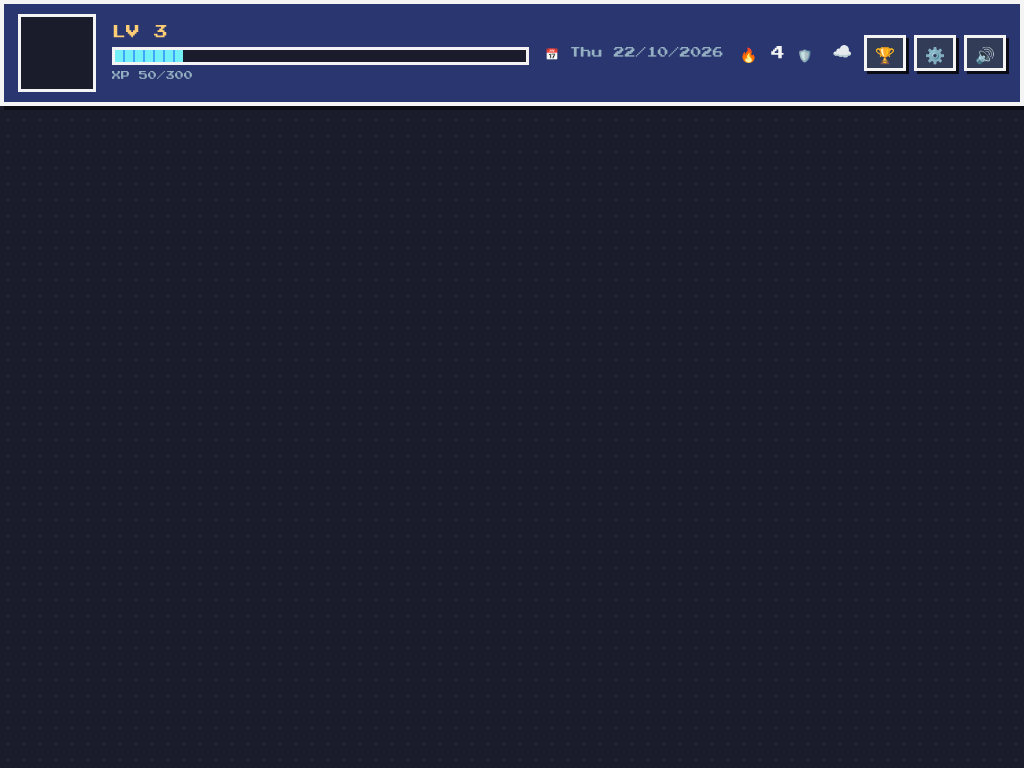
Scenario: PlayerBar › opens panels and toggles mute
The image size is (1024, 768).
Click the button named "Achievements": (885, 53) [864, 35, 906, 71]
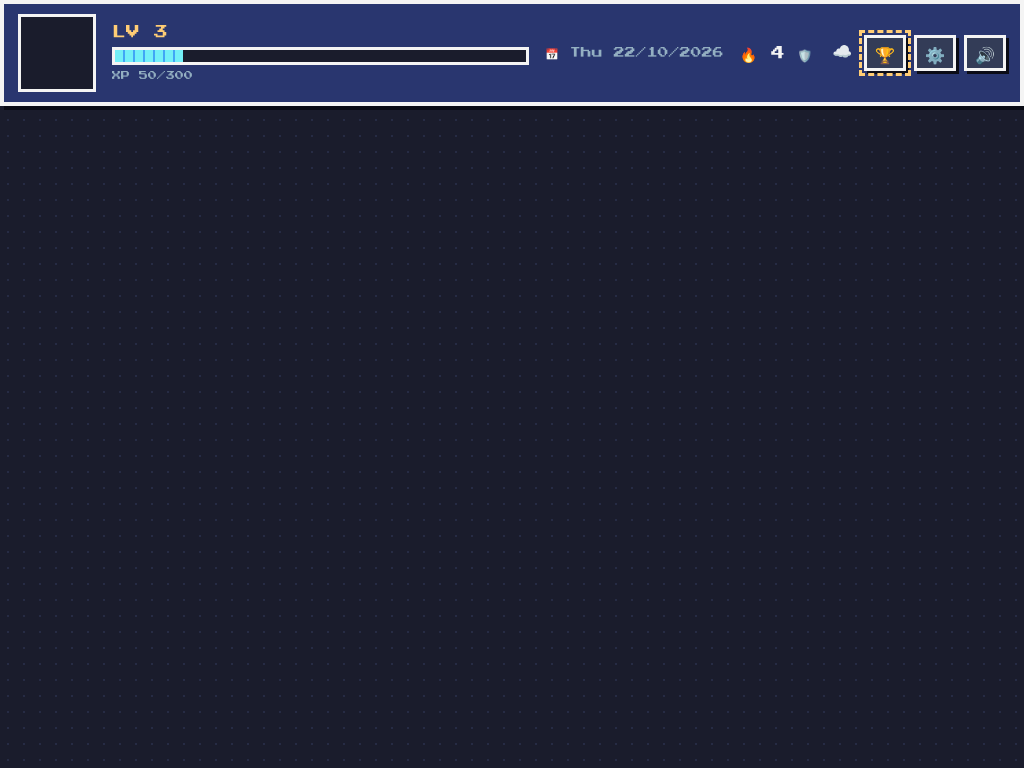
Click the button named "Settings": (935, 53) [914, 35, 956, 71]
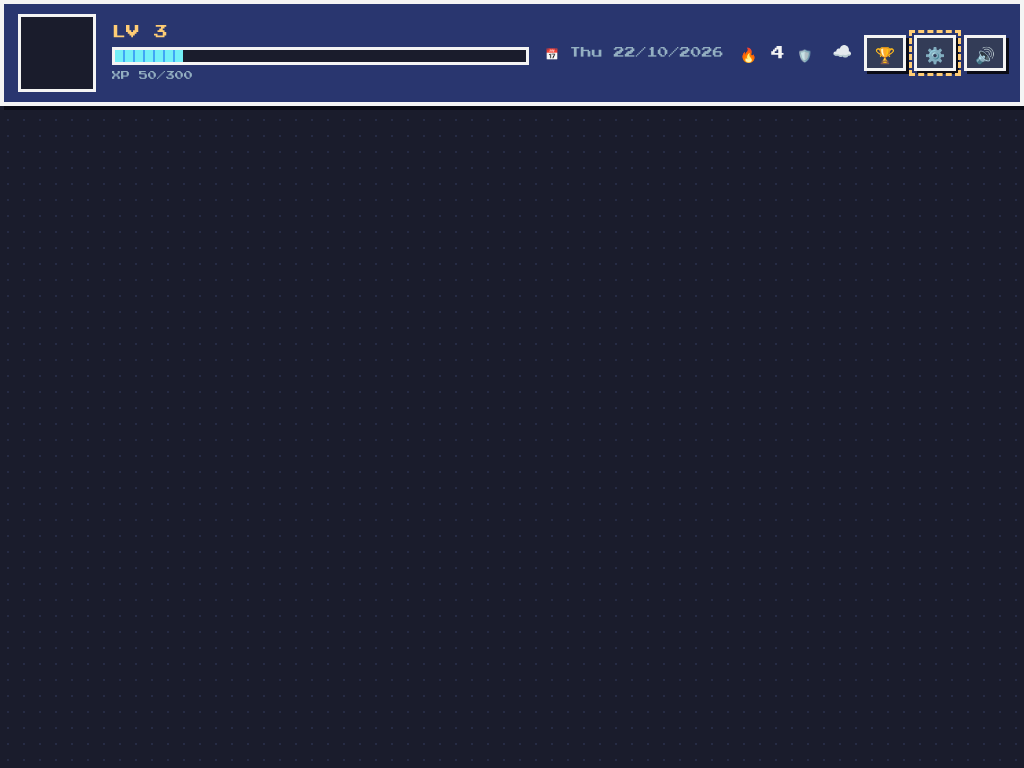
Click the button named "Edit avatar": (57, 53) [18, 14, 96, 92]
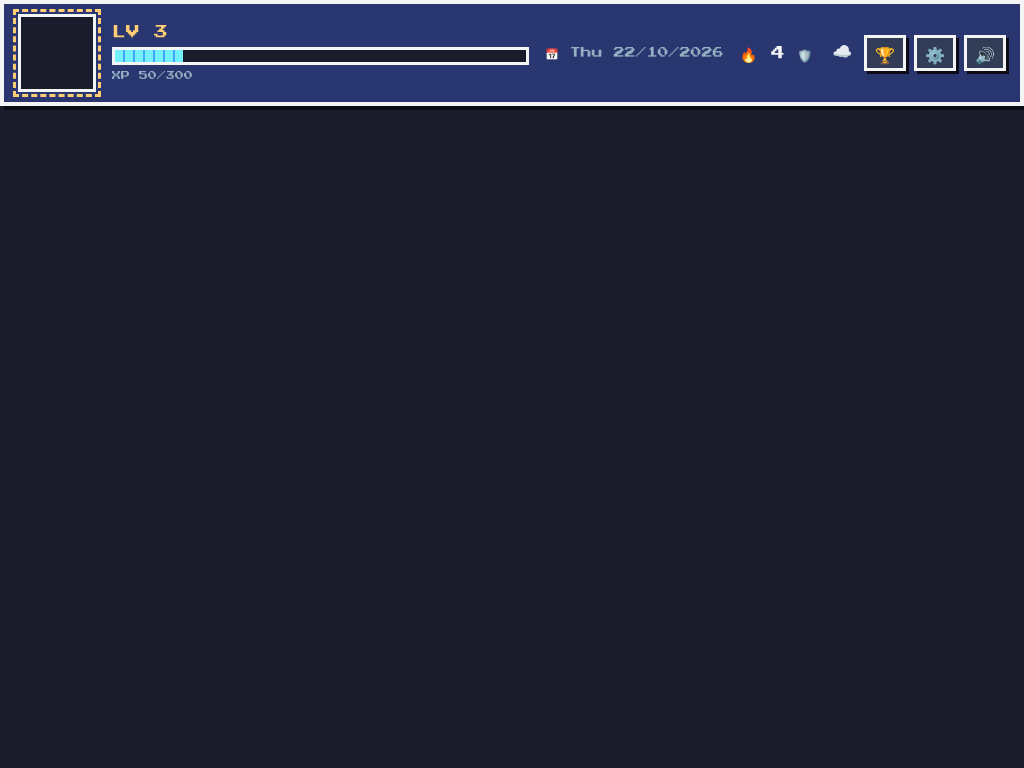
Click the button named "Mute": (985, 53) [964, 35, 1006, 71]
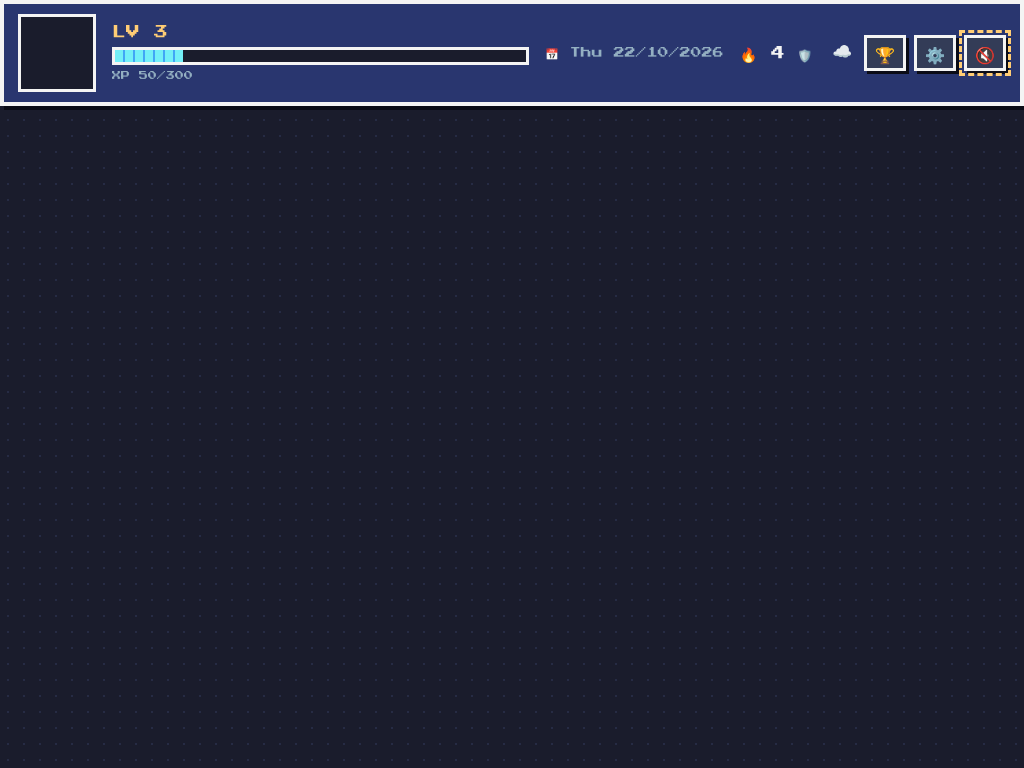
Check: the button named "Unmute" is shown, box [964, 35, 1006, 71]
